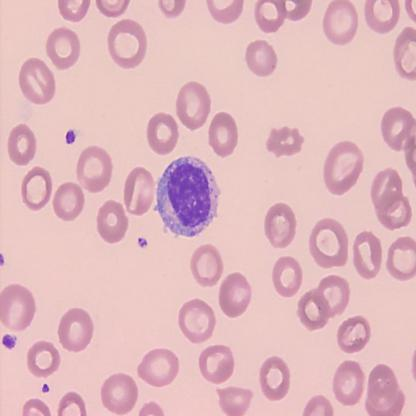Metamyelocyte: (152, 152, 224, 243)
